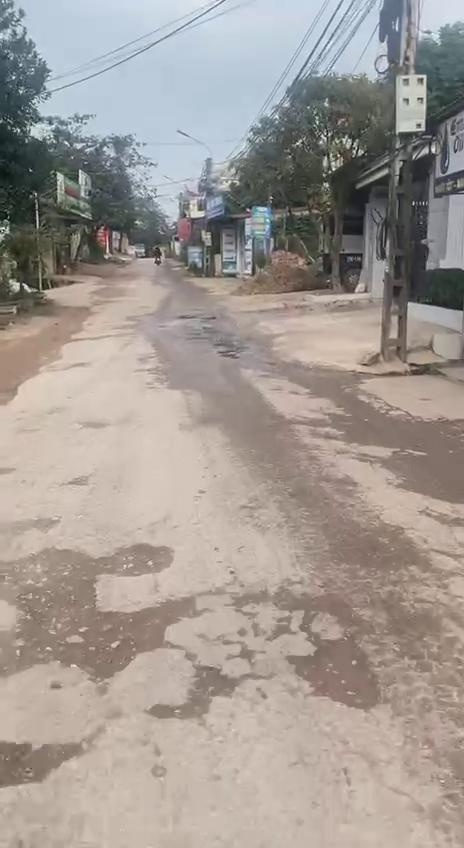pothole: (0, 540, 208, 680), (284, 626, 380, 722), (228, 584, 368, 642), (322, 510, 436, 579), (146, 656, 255, 726), (0, 732, 94, 798)
